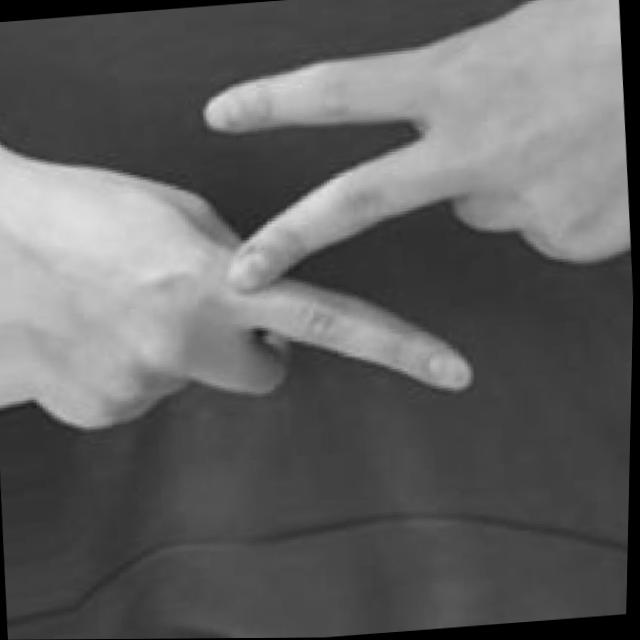Z: (0, 0, 640, 441)
